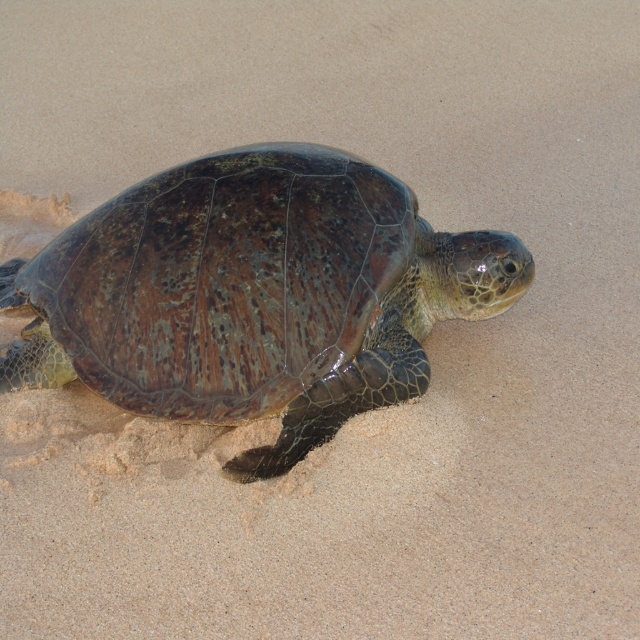Sea turtle: (0, 134, 536, 489)
